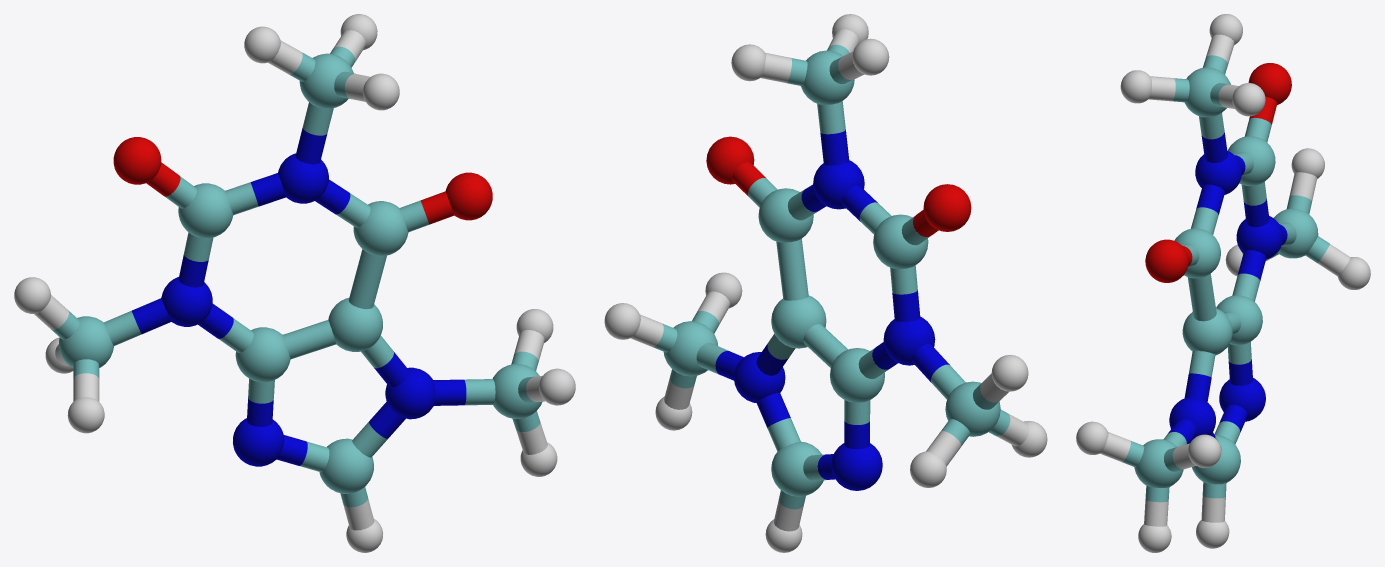
Rendered from caffeine.glb.
3 renders of one model, left to right at view 1: azimuth 30°, elevation 25°; view 2: azimuth 150°, elevation 25°; view 3: azimuth 270°, elevation 25°, orthographic. The views are drawn at different scales.
Parts seen in each view (by area): view 1: Object_4, Object_2, Object_5, Object_3; view 2: Object_4, Object_5, Object_2, Object_3; view 3: Object_4, Object_5, Object_2, Object_3.
Part boxes in pixels (x1=…): Object_4: x1=51, y1=46, x2=542, y2=507; Object_2: x1=132, y1=128, x2=466, y2=466; Object_5: x1=14, y1=14, x2=575, y2=552; Object_3: x1=113, y1=137, x2=492, y2=224; Object_4: x1=653, y1=44, x2=1010, y2=509; Object_5: x1=604, y1=14, x2=1047, y2=552; Object_2: x1=715, y1=130, x2=949, y2=490; Object_3: x1=706, y1=136, x2=971, y2=236; Object_4: x1=1122, y1=55, x2=1329, y2=502; Object_5: x1=1076, y1=14, x2=1370, y2=552; Object_2: x1=1168, y1=130, x2=1287, y2=443; Object_3: x1=1145, y1=63, x2=1291, y2=282.
Size of the model in its own units: 1.75 by 1.89 by 1.03.
